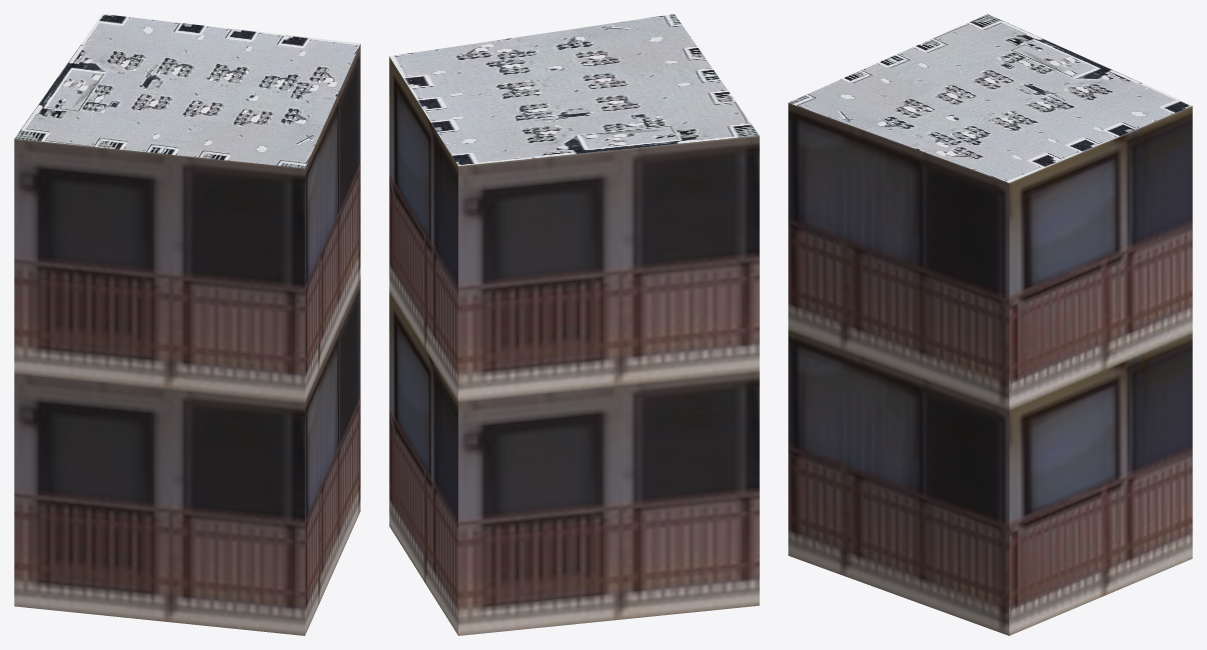
Rendered from ResTex__3460.fbx.
The picture shows the model from 3 angles, left to right: view 1: azimuth 30°, elevation 25°; view 2: azimuth 150°, elevation 25°; view 3: azimuth 270°, elevation 25°; orthographic projection. The views are drawn at different scales.
Visible parts, largest first — view 1: CityEngineMaterial_6_m, CityEngineMaterial_m; view 2: CityEngineMaterial_6_m, CityEngineMaterial_m; view 3: CityEngineMaterial_6_m, CityEngineMaterial_m.
Boxes of the visible parts, x1=… form: CityEngineMaterial_6_m: x1=14, y1=44, x2=360, y2=635; CityEngineMaterial_m: x1=14, y1=14, x2=360, y2=168; CityEngineMaterial_6_m: x1=389, y1=57, x2=759, y2=635; CityEngineMaterial_m: x1=389, y1=14, x2=759, y2=165; CityEngineMaterial_6_m: x1=788, y1=103, x2=1192, y2=635; CityEngineMaterial_m: x1=788, y1=14, x2=1192, y2=182.
Bounding box in the file's own units: 4.8 × 6 × 4.86.
2 materials, 2 textured.
